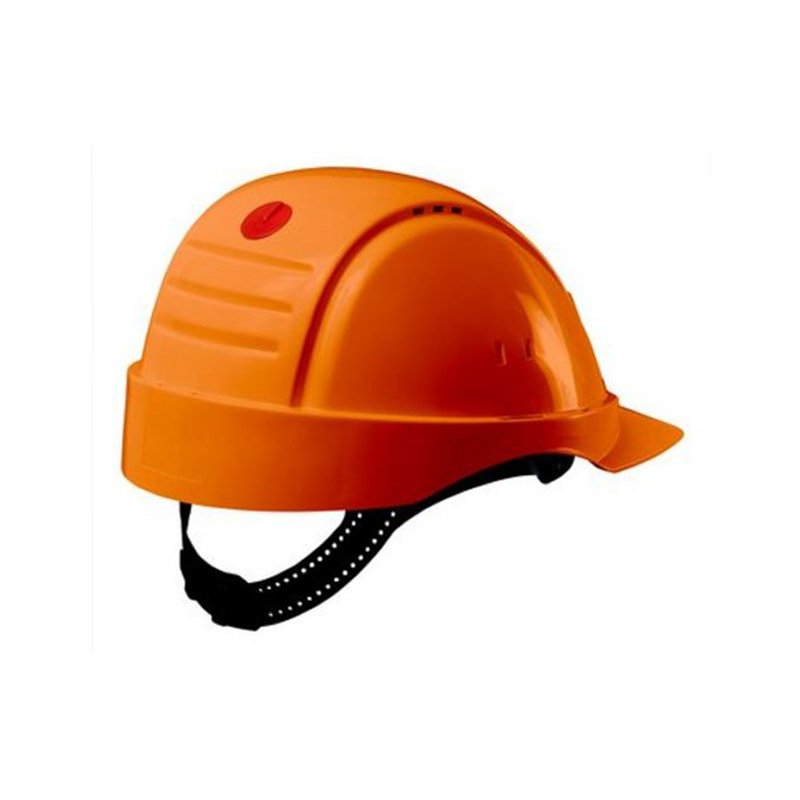elmetto: (76, 136, 733, 648)
